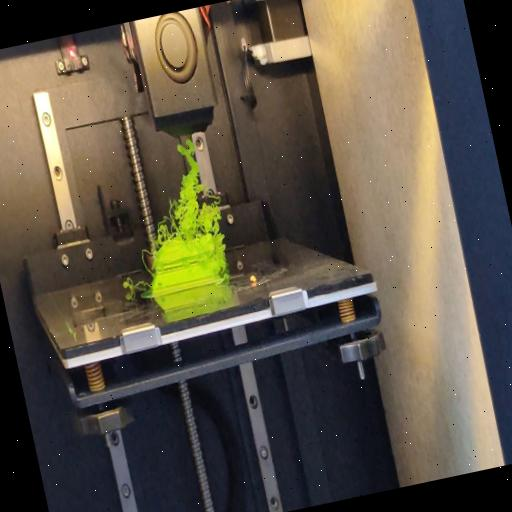spaghetti: (138, 132, 230, 248), (212, 234, 234, 284), (118, 272, 153, 296), (139, 247, 155, 274)
